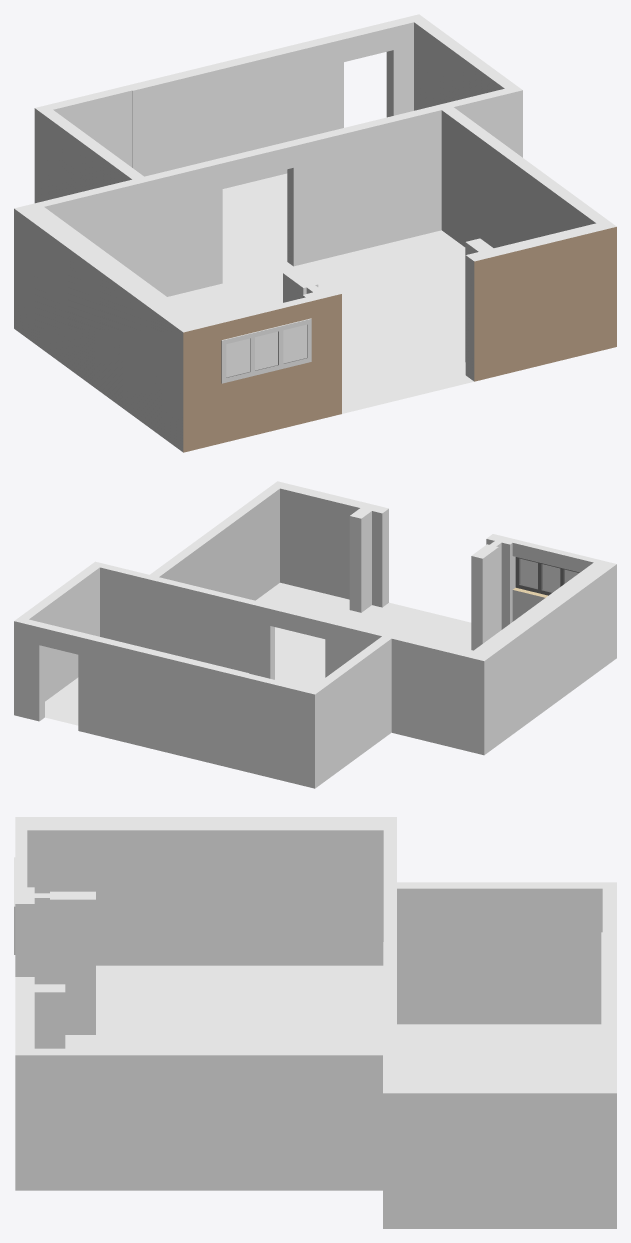
The model's file is office_empty.glb.
3 views of the same model, one above another, from view 1: azimuth 30°, elevation 25°; view 2: azimuth 150°, elevation 25°; view 3: azimuth 270°, elevation 25° (orthographic). The views are drawn at different scales.
Visible parts, largest first — view 1: skfb_offset; view 2: skfb_offset; view 3: skfb_offset.
Part boxes in pixels (x1,y1,x2,y2): skfb_offset: (14,14,616,452); skfb_offset: (14,481,616,788); skfb_offset: (14,817,616,1228).
Size of the model in its own units: 11381 by 2600 by 10493.
